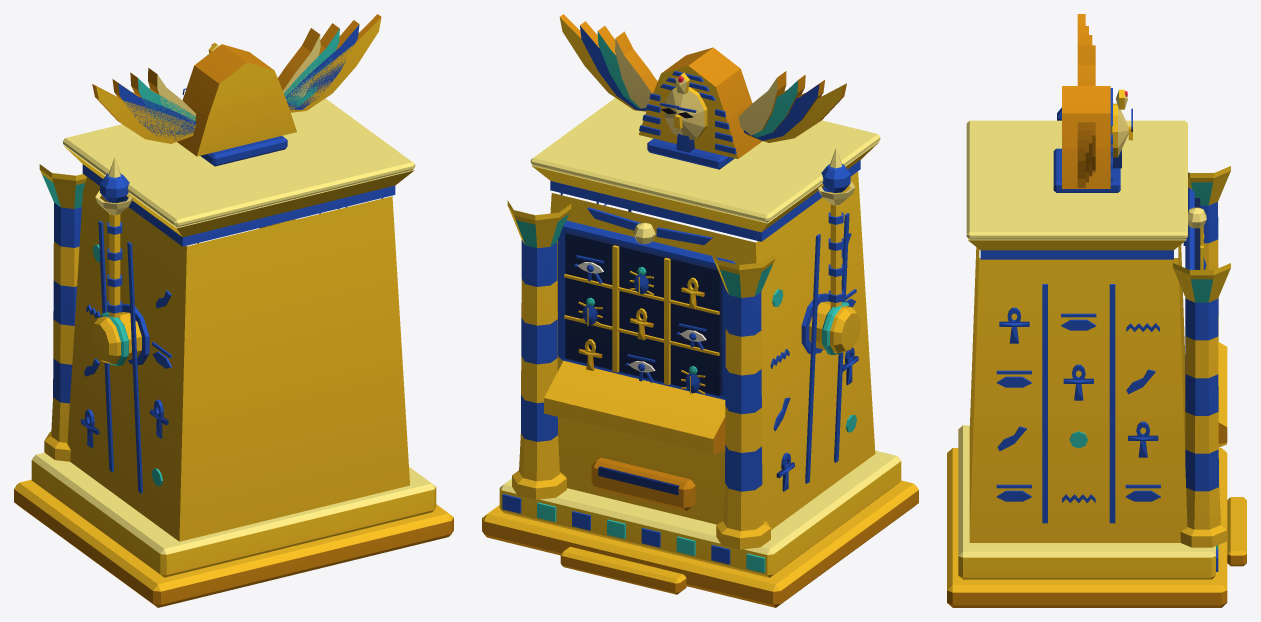
File: GoldenPharaohMachine.glb
The picture shows the model from 3 angles, left to right: view 1: azimuth 30°, elevation 25°; view 2: azimuth 150°, elevation 25°; view 3: azimuth 270°, elevation 25°; orthographic projection. The views are drawn at different scales.
Visible parts, largest first — view 1: Cabinet, Base, Topper, Wings, Lever; view 2: Cabinet, Base, Screen, Topper, Wings, Lever; view 3: Cabinet, Base, Topper, Wings, Screen.
Part boxes in pixels (x1,y1,x2,y2): Cabinet: (39, 98, 415, 541); Base: (14, 452, 453, 607); Topper: (177, 42, 296, 166); Wings: (92, 14, 381, 143); Lever: (90, 157, 141, 365); Cabinet: (507, 80, 880, 549); Base: (482, 450, 918, 607); Screen: (564, 231, 722, 395); Topper: (638, 47, 762, 169); Wings: (559, 14, 846, 142); Lever: (809, 147, 860, 354); Cabinet: (966, 120, 1230, 547); Base: (947, 425, 1246, 607); Topper: (1053, 86, 1132, 192); Wings: (1077, 14, 1095, 187); Screen: (1194, 198, 1206, 269).
Bounding box in the file's own units: 6 × 9.02 × 5.35.
Materials: 1 (1 with a texture image).
